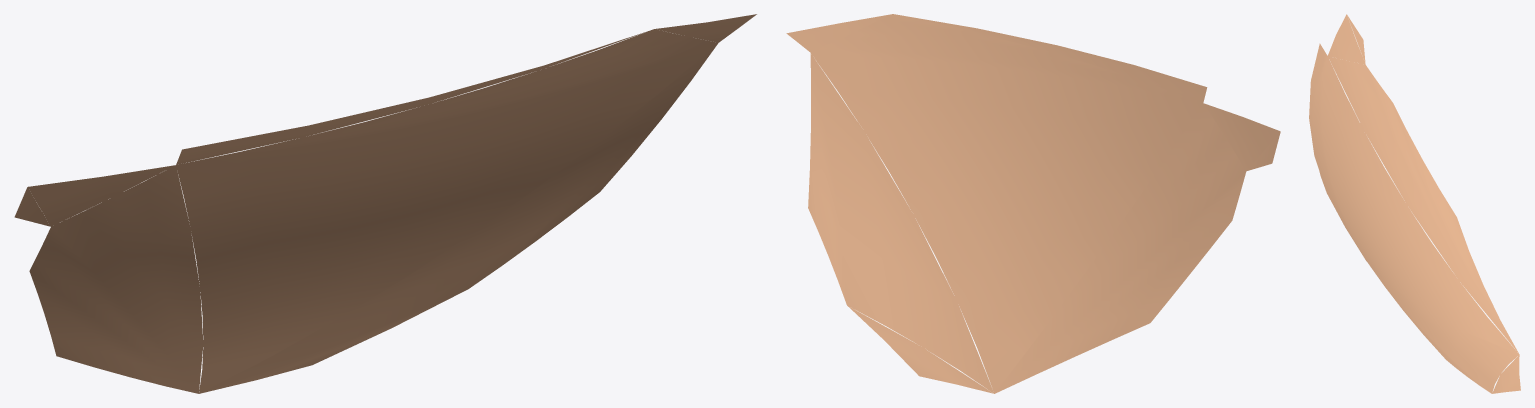
File: mouth-smile.glb
3 renders of one model, left to right at view 1: azimuth 30°, elevation 25°; view 2: azimuth 150°, elevation 25°; view 3: azimuth 270°, elevation 25°, orthographic. The views are drawn at different scales.
Visible parts, largest first — view 1: mouth; view 2: mouth; view 3: mouth.
Boxes of the visible parts, x1,y1,x2,y2 form: mouth: (14, 14, 756, 393); mouth: (786, 14, 1280, 393); mouth: (1309, 14, 1520, 393).
Size of the model in its own units: 0.195 by 0.1 by 0.0746.
